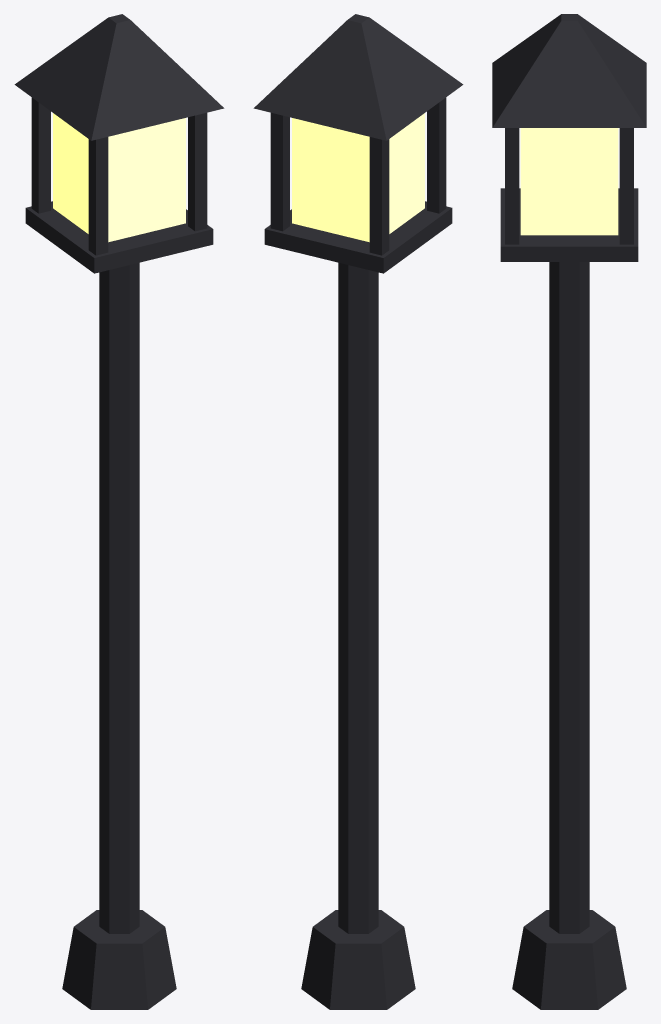
The model's file is lamp.glb.
3 renders of one model, left to right at view 1: azimuth 30°, elevation 25°; view 2: azimuth 150°, elevation 25°; view 3: azimuth 270°, elevation 25°, orthographic.
Visible parts, largest first — view 1: lamp; view 2: lamp; view 3: lamp.
Boxes of the visible parts, box(x1,y1,x2,y2) form: lamp: box(14, 14, 224, 1009); lamp: box(253, 14, 463, 1009); lamp: box(492, 14, 646, 1009).
Bounding box in the file's own units: 0.2687 × 1.87 × 0.2687.
